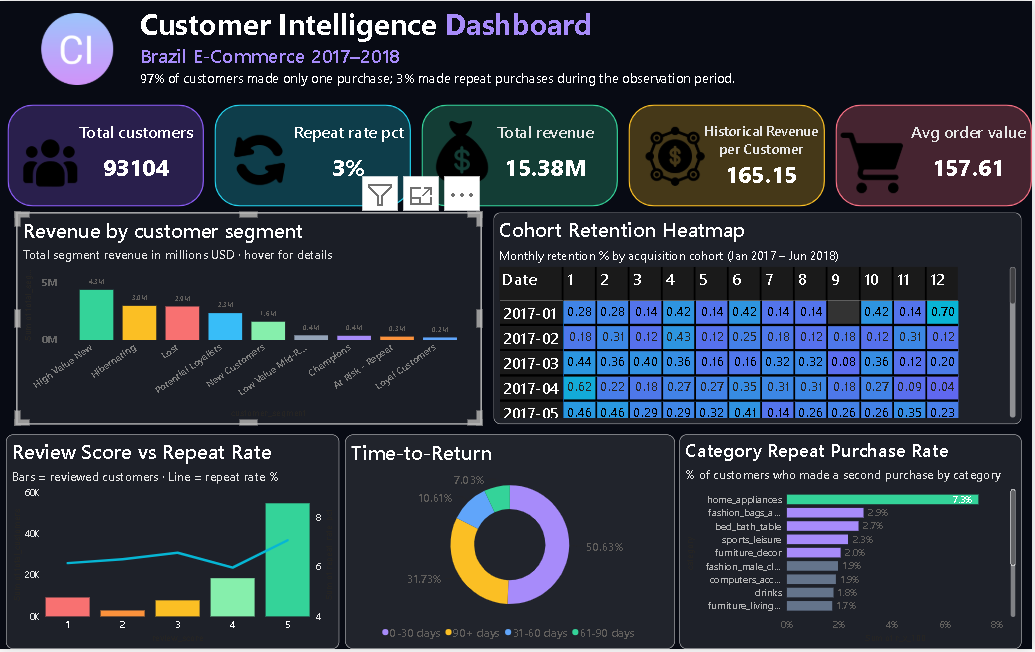

The dashboard page shown, as its layout file describes it:
{"tool":"powerbi","page":{"name":"Page 1","canvas":[1720,1080],"ordinal":0},"visuals":[{"type":"textbox","box":[227.5,0,1085,172.5],"z":0},{"type":"shape","box":[12.5,172.5,327.5,170],"z":1000},{"type":"kpi","title":"Total customers","fields":{"Indicator":["Sum(kpi_summary.total_customers)"],"TrendLine":["kpi_summary.dumyaxis"]},"box":[112.5,200,227.5,115],"z":2000},{"type":"shape","box":[357.5,172.5,327.5,170],"z":3000},{"type":"shape","box":[702.5,172.5,327.5,170],"z":4000},{"type":"shape","box":[1047.5,172.5,327.5,170],"z":5000},{"type":"shape","box":[1392.5,172.5,327.5,170],"z":6000},{"type":"kpi","title":"Avg order value","fields":{"TrendLine":["kpi_summary.dumyaxis"],"Indicator":["Sum(kpi_summary.avg_order_value)"]},"box":[1507.5,200,212.5,115],"z":7000},{"type":"kpi","title":"Avg customer LTV","fields":{"TrendLine":["kpi_summary.dumyaxis"],"Indicator":["Sum(kpi_summary.avg_customer_ltv)"]},"box":[1162.5,200,212.5,115],"z":8000},{"type":"kpi","title":"Total revenue","fields":{"TrendLine":["kpi_summary.dumyaxis"],"Indicator":["Sum(kpi_summary.total_revenue)"]},"box":[802.5,200,212.5,115],"z":9000},{"type":"kpi","title":"Repeat rate pct","fields":{"TrendLine":["kpi_summary.dumyaxis"],"Indicator":["Sum(kpi_summary.Division)"]},"box":[475,200,212.5,115],"z":10000},{"type":"clusteredColumnChart","title":"Revenue by customer segment","fields":{"Category":["rfm_summary.customer_segment"],"Y":["Sum(rfm_summary.total_segment_revenue)"]},"box":[27.5,352.5,775,352.5],"z":11000},{"type":"lineClusteredColumnComboChart","title":"Review Score vs Repeat Rate","fields":{"Y2":["Sum(review_repeat.repeat_rate_pct)"],"Y":["Sum(review_repeat.total_customers)"],"Category":["review_repeat.review_score"]},"box":[10,722.5,555,357.5],"z":12000},{"type":"donutChart","title":"Time-to-Return","fields":{"Category":["time_to_return.return_window"],"Y":["Sum(time_to_return.pct_of_repeat_customers)"]},"box":[575,722.5,550,357.5],"z":13000},{"type":"clusteredBarChart","title":"Category Repeat Purchase Rate","fields":{"Category":["category_repeat.category"],"Y":["Sum(category_repeat.r_x_100)"]},"box":[1132.5,722.5,570,357.5],"z":14000},{"type":"pivotTable","title":"Cohort Retention Heatmap","fields":{"Values":["Sum(cohort_data_v2.retention_rate_pct)"],"Columns":["cohort_data_v2.month_number"],"Rows":["cohort_data_v2.d_cohort"]},"box":[822.5,352.5,880,352.5],"z":15000},{"type":"image","box":[27.5,225,112.5,90],"z":15001},{"type":"image","box":[360,215,145,100],"z":15002},{"type":"image","box":[702.5,200,135,105],"z":15003},{"type":"image","box":[987.5,202.5,275,112.5],"z":15004},{"type":"image","box":[1375,215,157.5,105],"z":15005},{"type":"image","box":[0,20,257.5,120],"z":15006}]}

Visuals, with their boxes in screenshot pixels (x1, y1, x2, y2), scaled from the page's 1720x1080 canvas onto the 1035x652 screenshot:
textbox: (x1=137, y1=0, x2=790, y2=104)
shape: (x1=8, y1=104, x2=205, y2=207)
"Total customers" kpi: (x1=68, y1=121, x2=205, y2=190)
shape: (x1=215, y1=104, x2=412, y2=207)
shape: (x1=423, y1=104, x2=620, y2=207)
shape: (x1=630, y1=104, x2=827, y2=207)
shape: (x1=838, y1=104, x2=1034, y2=207)
"Avg order value" kpi: (x1=907, y1=121, x2=1034, y2=190)
"Avg customer LTV" kpi: (x1=700, y1=121, x2=827, y2=190)
"Total revenue" kpi: (x1=483, y1=121, x2=611, y2=190)
"Repeat rate pct" kpi: (x1=286, y1=121, x2=414, y2=190)
"Revenue by customer segment" clusteredColumnChart: (x1=17, y1=213, x2=483, y2=426)
"Review Score vs Repeat Rate" lineClusteredColumnComboChart: (x1=6, y1=436, x2=340, y2=651)
"Time-to-Return" donutChart: (x1=346, y1=436, x2=677, y2=651)
"Category Repeat Purchase Rate" clusteredBarChart: (x1=681, y1=436, x2=1024, y2=651)
"Cohort Retention Heatmap" pivotTable: (x1=495, y1=213, x2=1024, y2=426)
image: (x1=17, y1=136, x2=84, y2=190)
image: (x1=217, y1=130, x2=304, y2=190)
image: (x1=423, y1=121, x2=504, y2=184)
image: (x1=594, y1=122, x2=760, y2=190)
image: (x1=827, y1=130, x2=922, y2=193)
image: (x1=0, y1=12, x2=155, y2=85)
